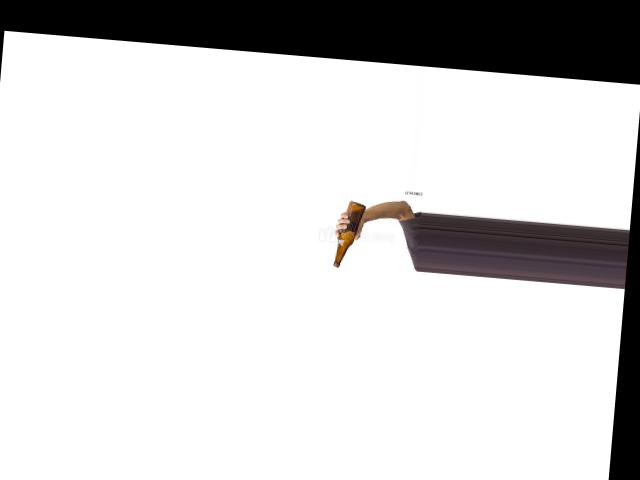beer: (333, 199, 366, 269)
